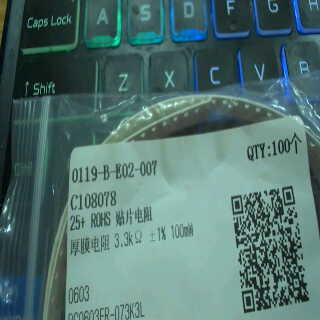3.3kO: (109, 225, 147, 257)
